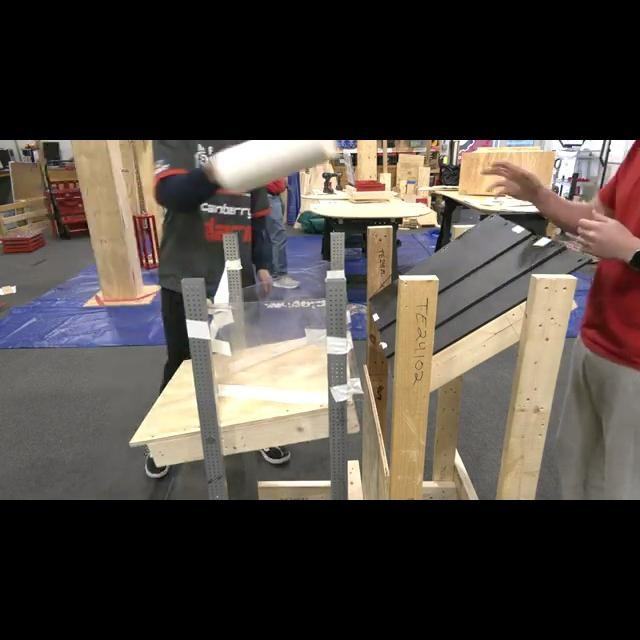CORAL: (200, 140, 336, 192)
